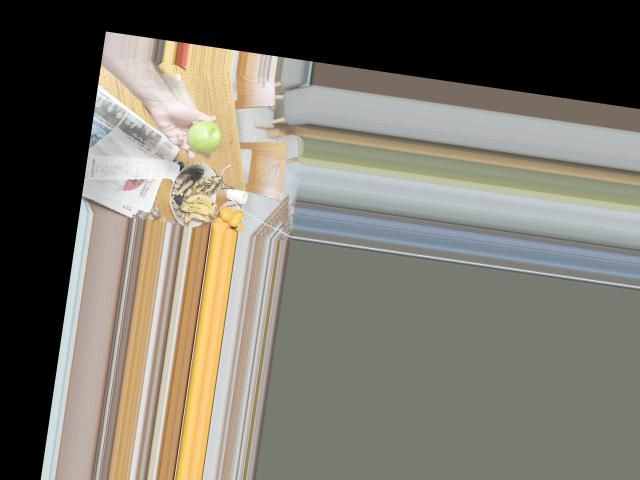apple: (182, 117, 226, 158)
